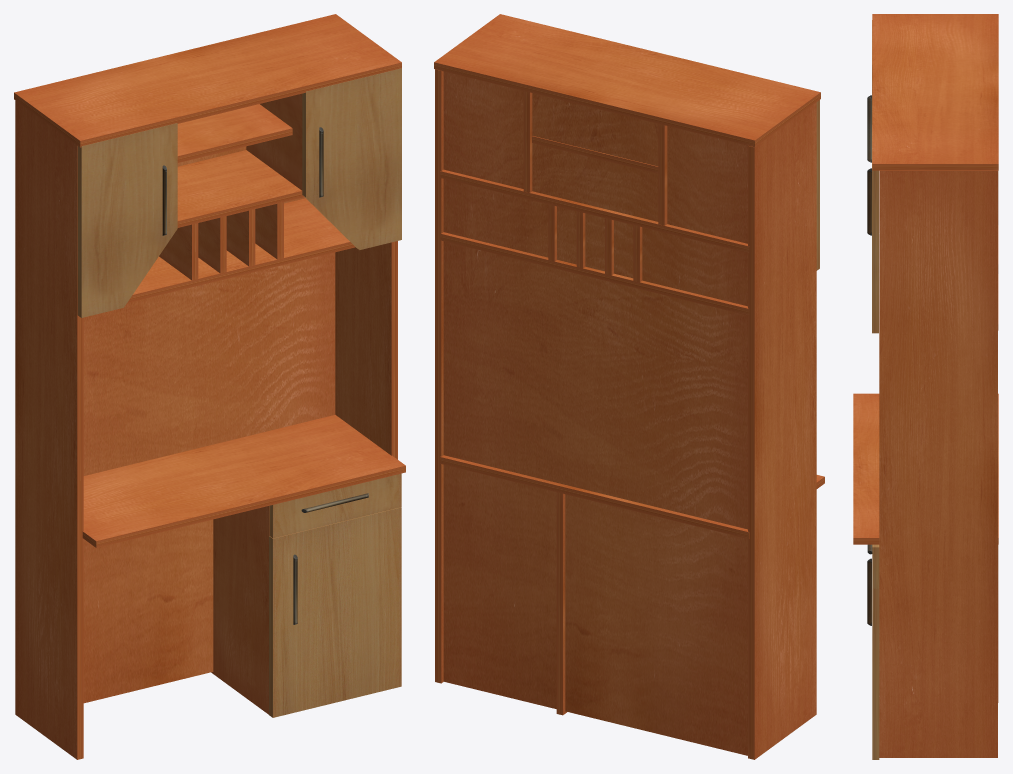
The model's file is sek4.FBX.
3 renders of one model, left to right at view 1: azimuth 30°, elevation 25°; view 2: azimuth 150°, elevation 25°; view 3: azimuth 270°, elevation 25°, orthographic. The views are drawn at different scales.
Visible parts, largest first — view 1: Box062; view 2: Box062; view 3: Box062.
Boxes of the visible parts, box(x1,y1,x2,y2) form: Box062: box(14, 14, 405, 759); Box062: box(434, 14, 824, 759); Box062: box(853, 14, 998, 759).
Size of the model in its own units: 51.13 by 94.73 by 20.97.
Materials: 3 (3 with a texture image).
